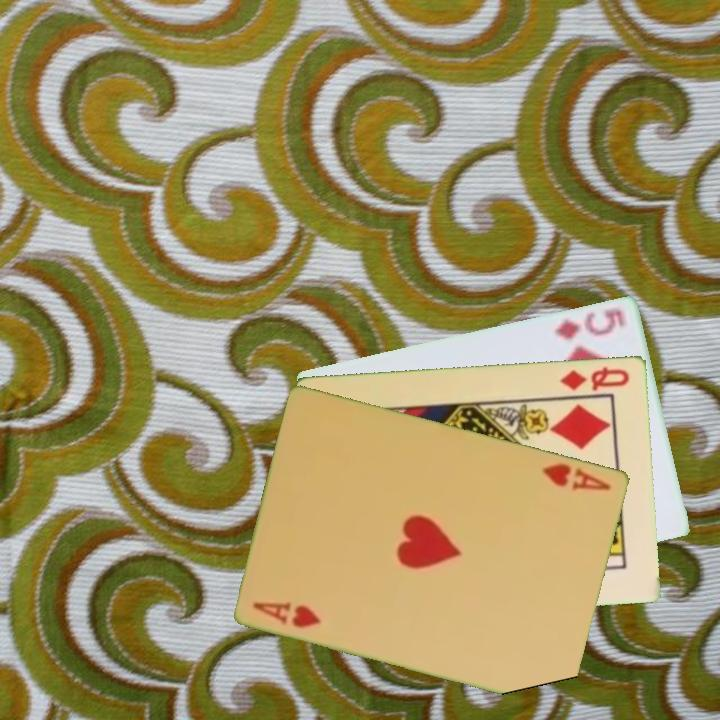5d: (551, 303, 629, 342)
Ah: (539, 459, 614, 494), (250, 597, 325, 631)
Qd: (557, 363, 632, 394)
